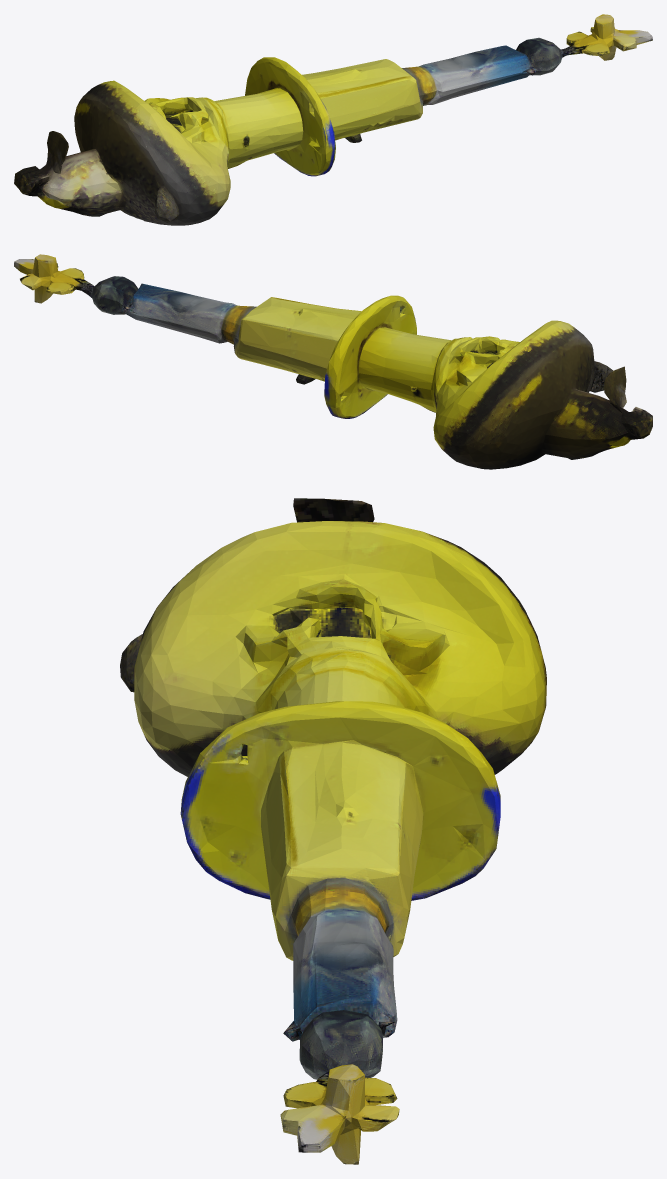
The model's file is sarı_duba55.glb.
The picture shows the model from 3 angles, top to bottom: view 1: azimuth 30°, elevation 25°; view 2: azimuth 150°, elevation 25°; view 3: azimuth 270°, elevation 25°; orthographic projection. The views are drawn at different scales.
Visible parts, largest first — view 1: world; view 2: world; view 3: world.
Part boxes in pixels (x1,y1,x2,y2): world: (14, 14, 652, 225); world: (14, 254, 652, 469); world: (120, 498, 546, 1164).
Bounding box in the file's own units: 0.9992 × 0.1843 × 0.297.
Materials: 1 (1 with a texture image).
